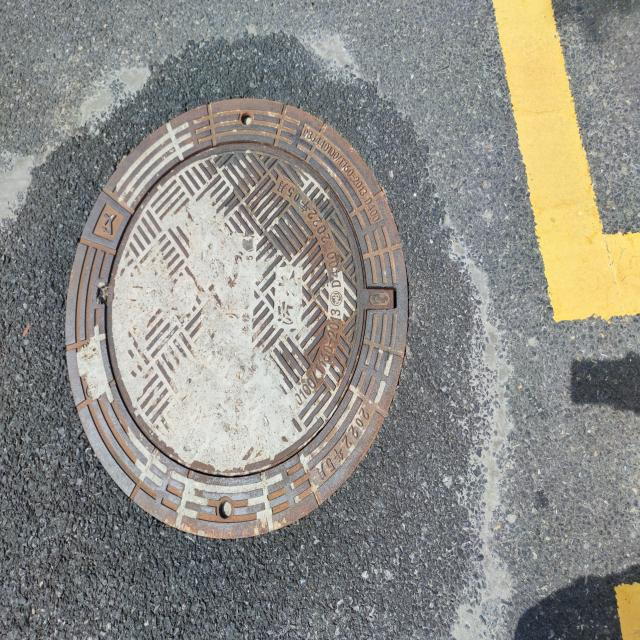Good: (60, 92, 417, 552)
